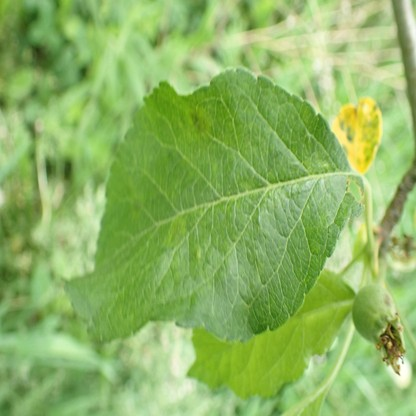scab: (186, 106, 211, 139), (162, 215, 186, 248)
